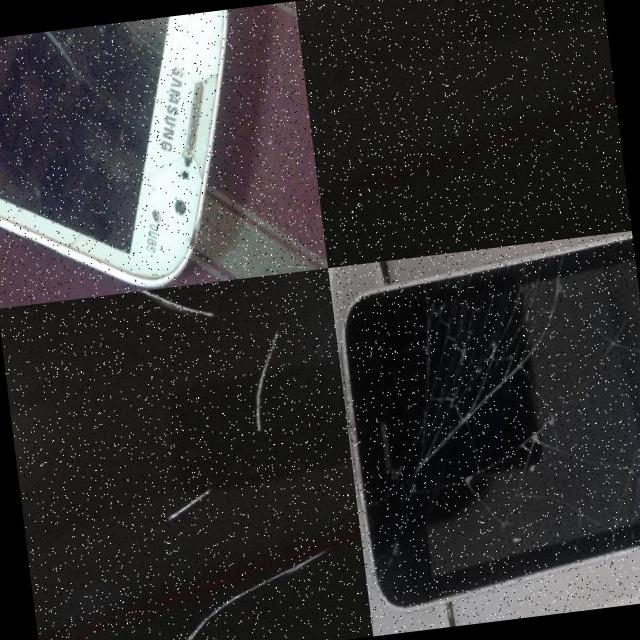scratch: (155, 542, 340, 640), (228, 314, 302, 434), (98, 282, 220, 334), (150, 476, 223, 522), (595, 121, 622, 155)
screen crack: (354, 230, 640, 581), (0, 19, 158, 191)
